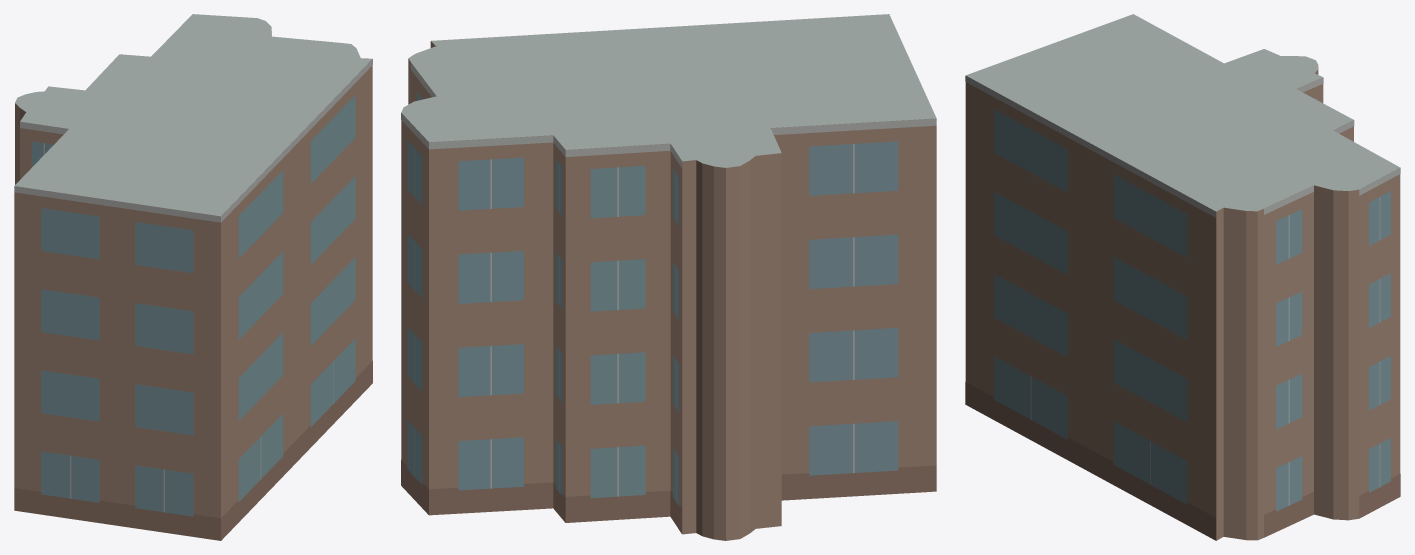
The model's file is survey-upis-32779661.glb.
3 views of the same model, side by side, from view 1: azimuth 30°, elevation 25°; view 2: azimuth 150°, elevation 25°; view 3: azimuth 270°, elevation 25° (orthographic). The views are drawn at different scales.
Parts seen in each view (by area): view 1: survey-upis-32779661.tmp; view 2: survey-upis-32779661.tmp; view 3: survey-upis-32779661.tmp.
Part boxes in pixels (<box>): survey-upis-32779661.tmp: <box>14,14,372,540</box>; survey-upis-32779661.tmp: <box>401,14,936,540</box>; survey-upis-32779661.tmp: <box>965,14,1400,540</box>.
Size of the model in its own units: 16.24 by 12.6 by 15.1.
